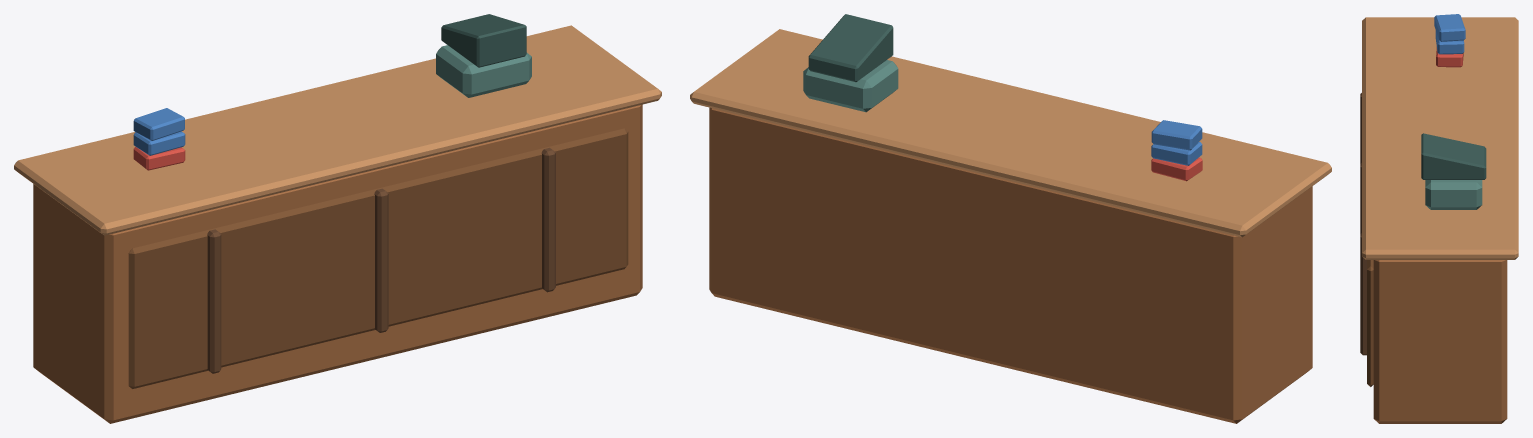
Rendered from counter.glb.
3 renders of one model, left to right at view 1: azimuth 30°, elevation 25°; view 2: azimuth 150°, elevation 25°; view 3: azimuth 270°, elevation 25°, orthographic. The views are drawn at different scales.
Visible parts, largest first — view 1: counter; view 2: counter; view 3: counter.
Boxes of the visible parts, x1,y1,x2,y2 form: counter: [14, 14, 661, 423]; counter: [690, 14, 1331, 423]; counter: [1360, 14, 1518, 423].
Bounding box in the file's own units: 2.92 × 1.36 × 0.83.
